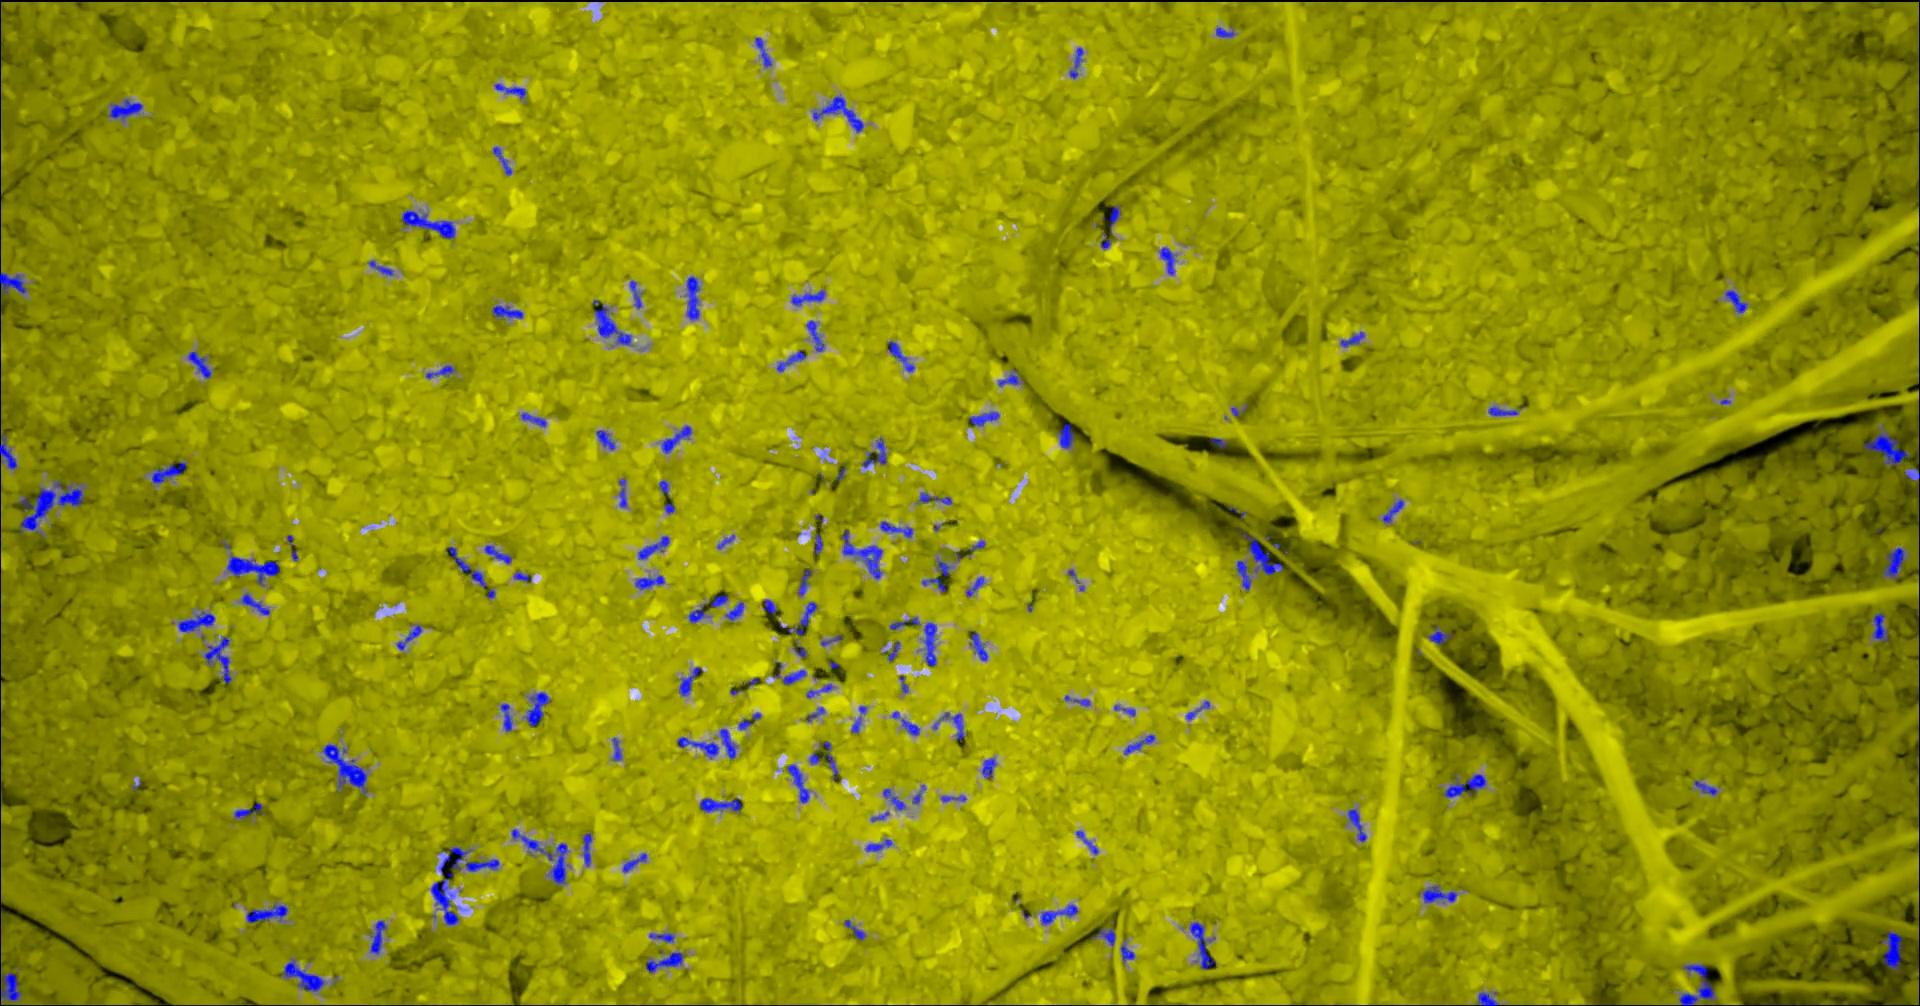ant: (510, 828, 568, 884), (321, 744, 366, 794), (841, 528, 883, 578), (811, 97, 863, 132), (592, 298, 631, 345), (1242, 532, 1283, 575), (446, 546, 486, 587), (226, 555, 278, 586), (1863, 431, 1909, 465), (1677, 963, 1714, 1005), (401, 210, 455, 238), (281, 959, 324, 991), (203, 636, 231, 683), (778, 601, 817, 635), (1189, 921, 1215, 969), (676, 735, 717, 758), (1443, 774, 1484, 796), (0, 962, 22, 1005), (1879, 930, 1901, 970), (524, 692, 550, 727), (786, 763, 809, 801), (0, 271, 25, 304), (662, 426, 691, 453), (888, 340, 914, 371), (861, 437, 886, 467), (177, 611, 215, 631), (246, 903, 287, 922), (645, 951, 683, 972), (637, 535, 669, 559), (151, 461, 185, 483), (1881, 547, 1905, 578), (938, 711, 963, 741), (1040, 904, 1077, 923), (108, 99, 142, 119), (187, 351, 211, 379), (678, 666, 701, 695), (698, 796, 742, 812), (396, 624, 422, 649), (1123, 734, 1154, 754), (240, 592, 269, 614), (822, 741, 838, 779), (1347, 808, 1366, 841), (922, 622, 936, 666), (776, 351, 805, 371), (0, 433, 17, 469), (879, 520, 912, 537), (1422, 885, 1457, 902), (370, 920, 386, 954), (719, 728, 737, 760), (491, 146, 510, 175), (1076, 829, 1098, 854), (686, 276, 698, 319), (806, 320, 824, 351), (790, 290, 824, 305), (1724, 290, 1747, 312), (1429, 622, 1451, 645), (883, 788, 905, 810), (1382, 499, 1403, 523), (969, 631, 987, 661), (1102, 205, 1120, 232), (622, 852, 646, 873), (494, 83, 526, 98), (754, 37, 771, 66), (1872, 612, 1888, 641), (484, 545, 510, 563), (1068, 47, 1083, 77), (232, 801, 263, 817), (850, 705, 866, 733), (1185, 700, 1209, 719), (1057, 423, 1074, 448), (968, 412, 999, 426), (1091, 927, 1115, 945), (1159, 246, 1175, 274), (634, 575, 664, 589), (997, 368, 1022, 385), (918, 492, 951, 504), (425, 365, 455, 379), (1236, 560, 1250, 589), (1693, 779, 1717, 795), (367, 260, 392, 276), (491, 305, 522, 318), (1903, 467, 1919, 493), (965, 575, 984, 596), (844, 920, 865, 939), (797, 568, 811, 594), (596, 429, 615, 448), (738, 713, 759, 729), (629, 279, 641, 307), (806, 683, 832, 697), (889, 617, 919, 629), (725, 601, 743, 620), (900, 718, 919, 735), (521, 412, 545, 426), (921, 577, 945, 591), (1340, 332, 1363, 345), (782, 669, 805, 683), (500, 702, 512, 730), (1476, 991, 1498, 1005), (582, 832, 590, 866), (865, 840, 891, 851), (688, 603, 703, 622), (1064, 695, 1090, 706), (982, 758, 996, 779), (1487, 406, 1517, 415), (648, 932, 674, 942), (1112, 704, 1135, 715), (1120, 944, 1134, 962), (888, 640, 899, 661), (611, 737, 621, 760), (937, 558, 950, 575), (710, 594, 728, 607), (618, 479, 626, 507), (763, 600, 777, 614), (1215, 27, 1234, 37), (813, 532, 822, 554), (658, 480, 669, 497), (513, 572, 531, 582), (1209, 437, 1225, 447)
